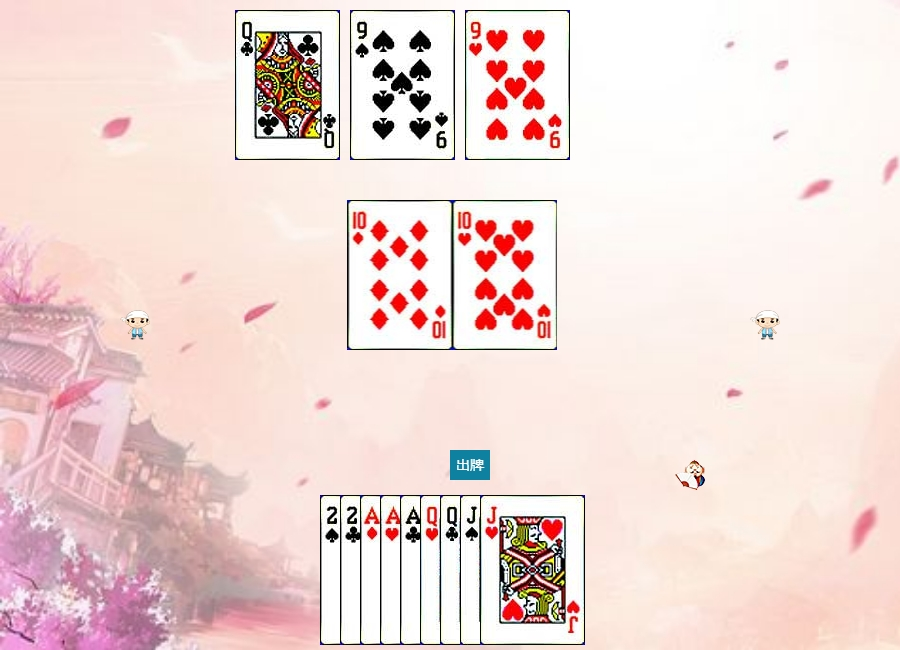10~1: (348, 200, 453, 350)
10~3: (453, 200, 558, 350)
11~3: (480, 495, 585, 645)
11~4: (460, 495, 565, 645)
12~2: (235, 10, 340, 160), (440, 495, 545, 645)
12~3: (420, 495, 525, 645)
14~1: (360, 495, 465, 645)
14~2: (400, 495, 505, 645)
14~3: (380, 495, 485, 645)
15~2: (340, 495, 445, 645)
15~4: (320, 495, 425, 645)
9~3: (465, 10, 570, 160)
9~4: (350, 10, 455, 160)
